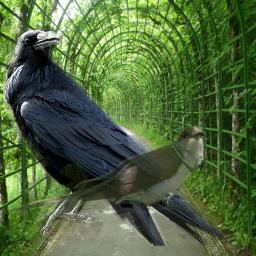Crow: (3, 28, 231, 246)
Cuckoo: (4, 124, 205, 216)
